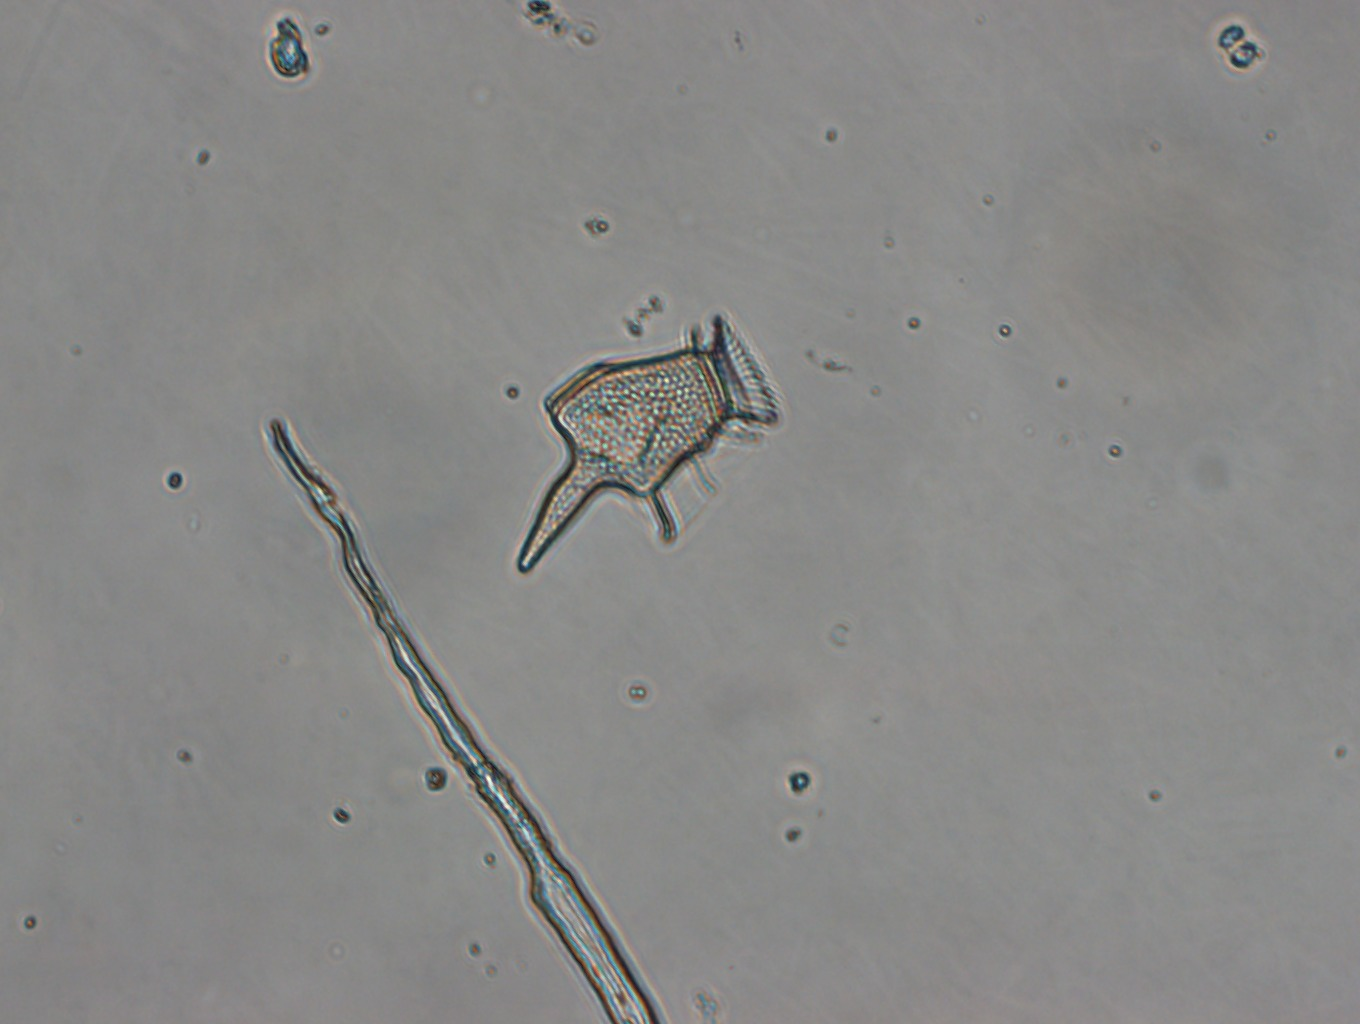dinophysis caudata: (505, 308, 781, 584)
